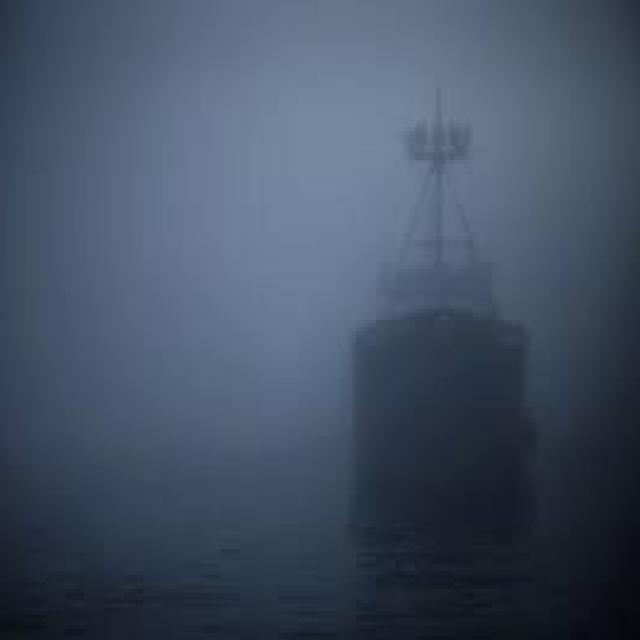fishing boat: (334, 99, 548, 552)
